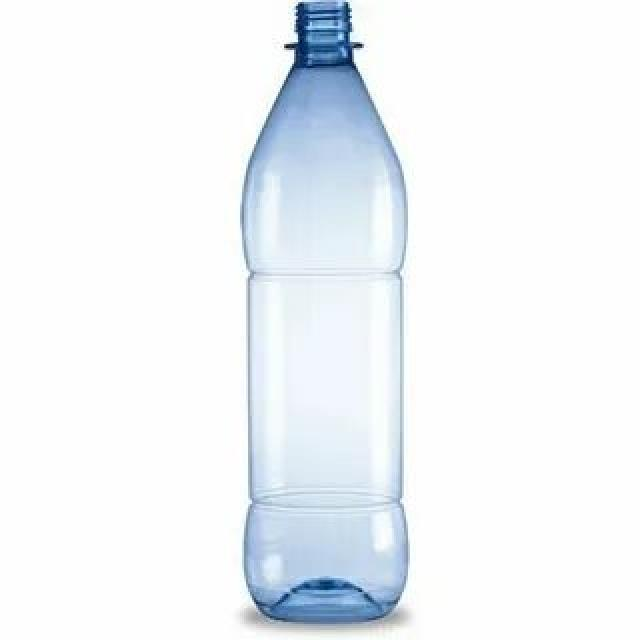blue: (237, 3, 410, 625)
